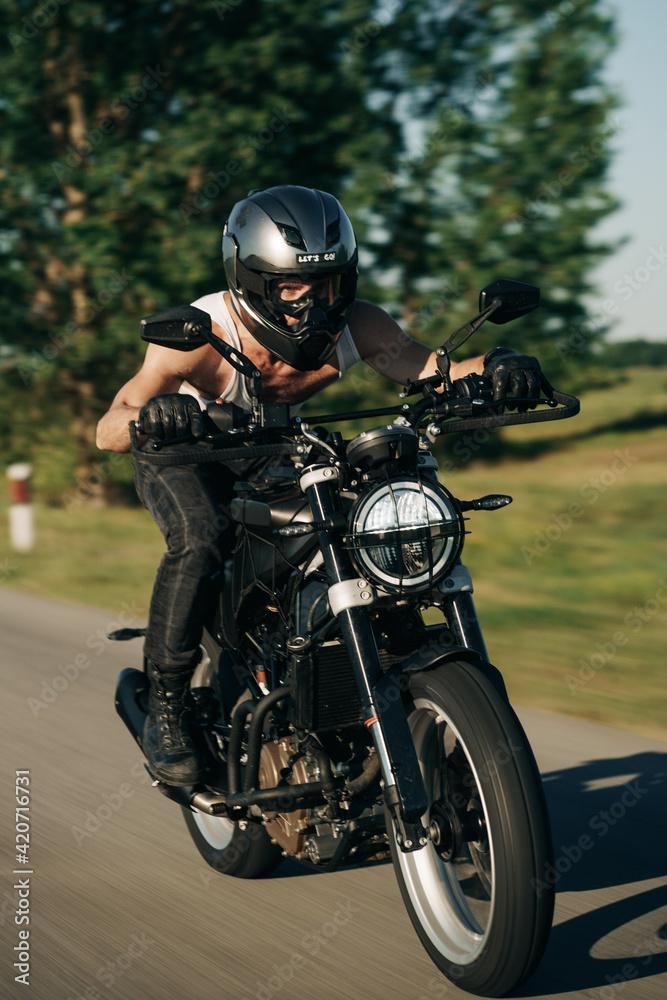helmet: (220, 183, 360, 373)
